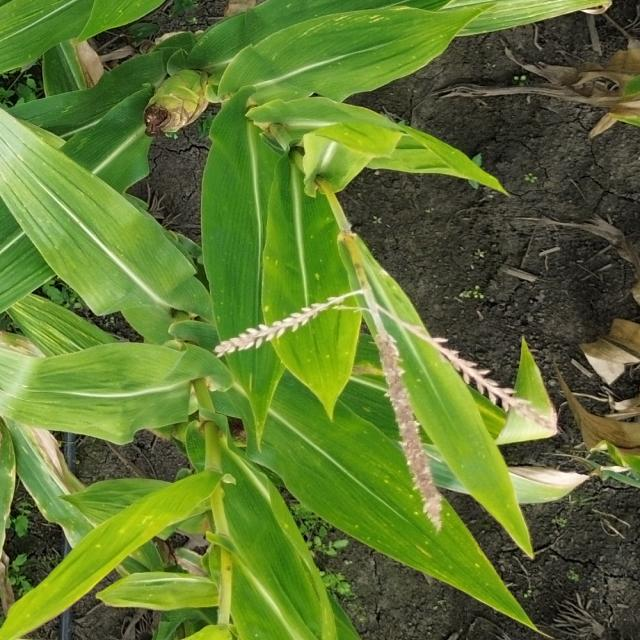gray-leaf-spot: (303, 15, 403, 48)
northern-leaf-blight: (11, 424, 91, 504), (356, 352, 408, 396)
southern-leaf-blight: (342, 459, 473, 562), (270, 240, 354, 369), (10, 158, 93, 252), (1, 0, 56, 65), (474, 0, 564, 32), (90, 514, 158, 556), (52, 504, 88, 544)
